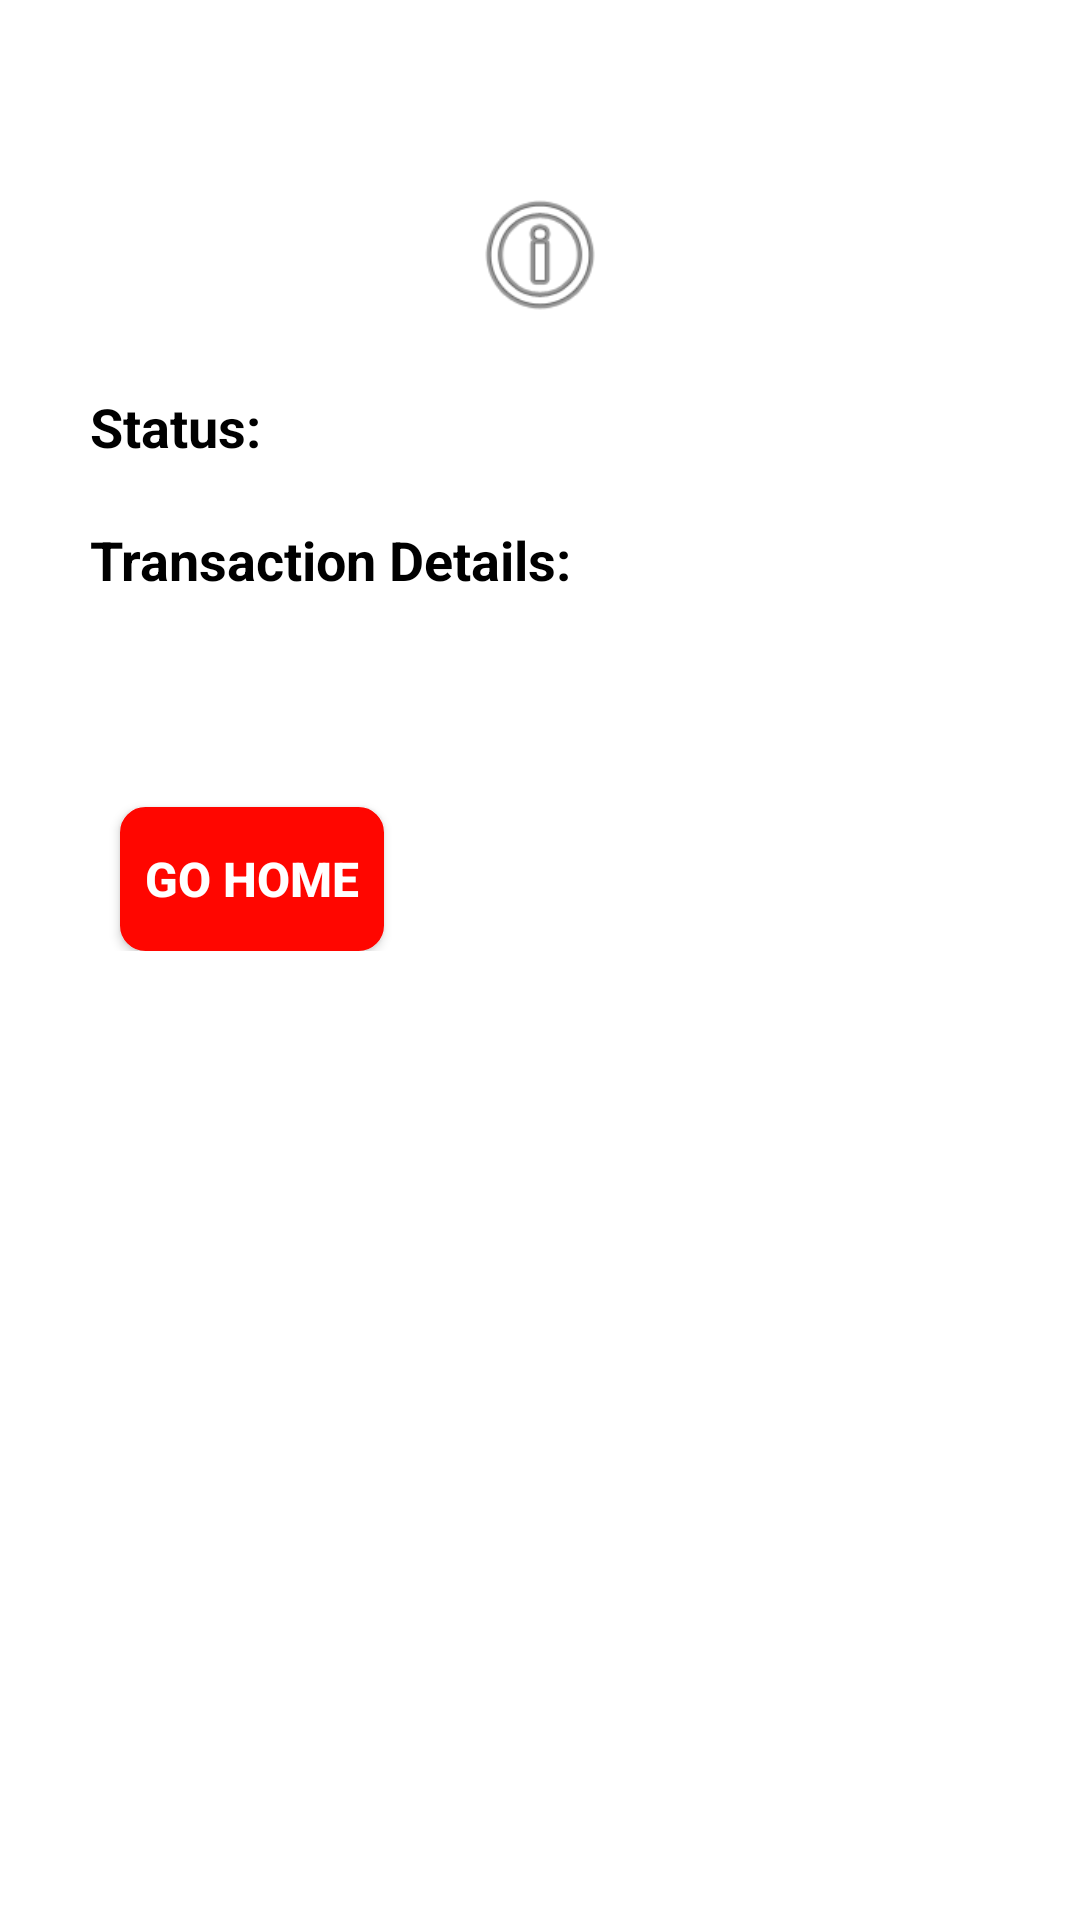

Icon bounding boxes for this 1080w x 1920h phone screenshot, format {"x1": x1, "y1": y1, "x2": x2, "y2": y2}:
info details: {"x1": 486, "y1": 201, "x2": 594, "y2": 309}
